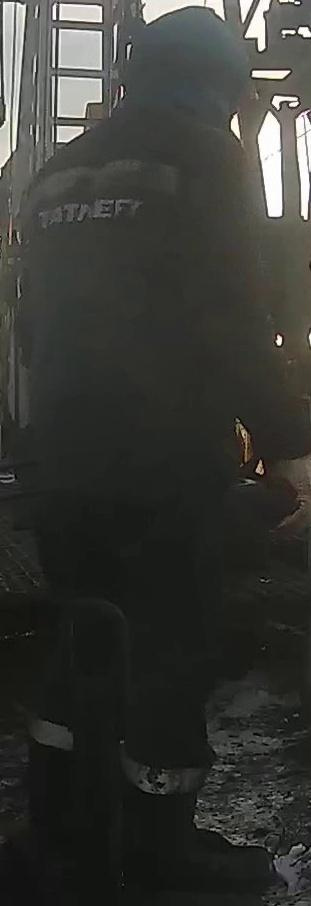vest: (14, 135, 261, 531)
